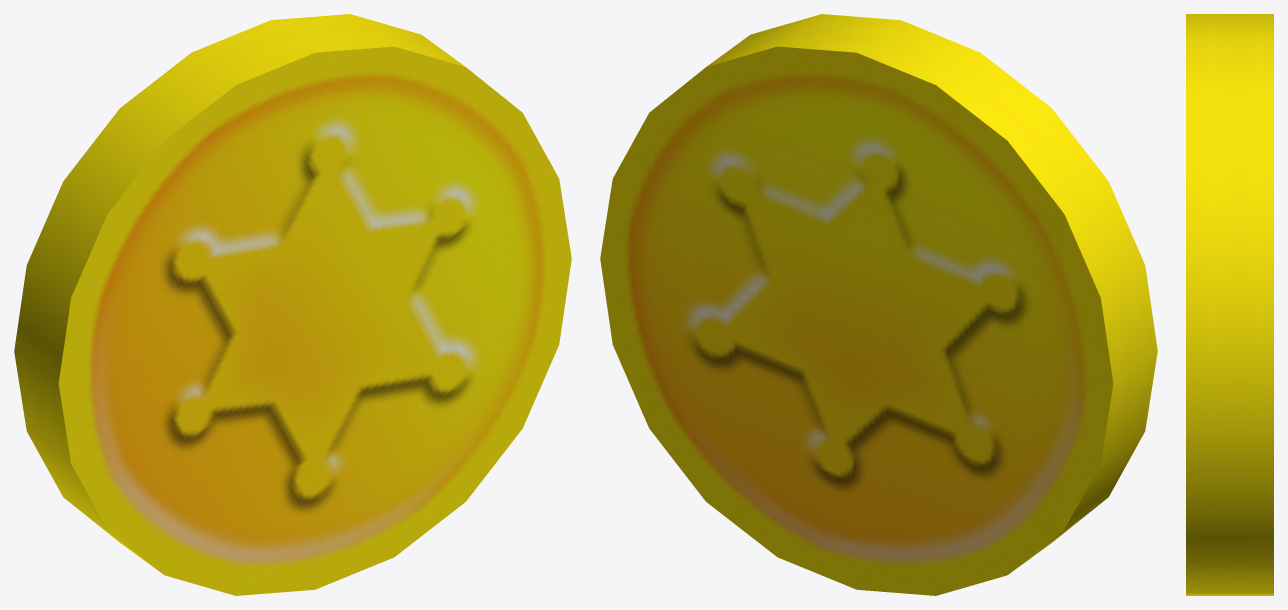
The model's file is Coin_01.FBX.
The picture shows the model from 3 angles, left to right: view 1: azimuth 30°, elevation 25°; view 2: azimuth 150°, elevation 25°; view 3: azimuth 270°, elevation 25°; orthographic projection.
Visible parts, largest first — view 1: Coin_01; view 2: Coin_01; view 3: Coin_01.
Boxes of the visible parts, x1,y1,x2,y2 form: Coin_01: [14, 14, 571, 595]; Coin_01: [600, 14, 1157, 595]; Coin_01: [1186, 14, 1273, 595].
Bounding box in the file's own units: 23.19 × 23.19 × 3.48.
